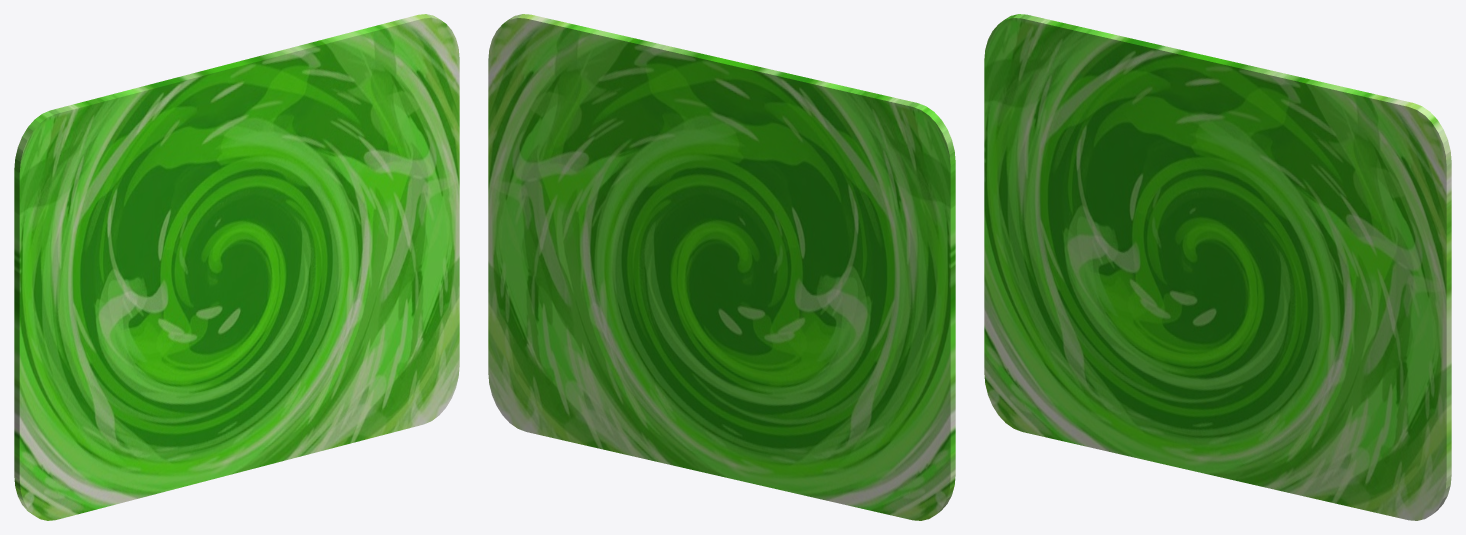
Rendered from Pantalla.obj.
The picture shows the model from 3 angles, left to right: view 1: azimuth 30°, elevation 25°; view 2: azimuth 150°, elevation 25°; view 3: azimuth 330°, elevation 25°; orthographic projection.
Parts seen in each view (by area): view 1: Pantalla; view 2: Pantalla; view 3: Pantalla.
Part boxes in pixels (<box>): Pantalla: <box>14,14,459,520</box>; Pantalla: <box>488,14,955,520</box>; Pantalla: <box>984,14,1451,520</box>.
Size of the model in its own units: 1.27 by 1.1 by 0.0604.
1 material, 1 textured.
